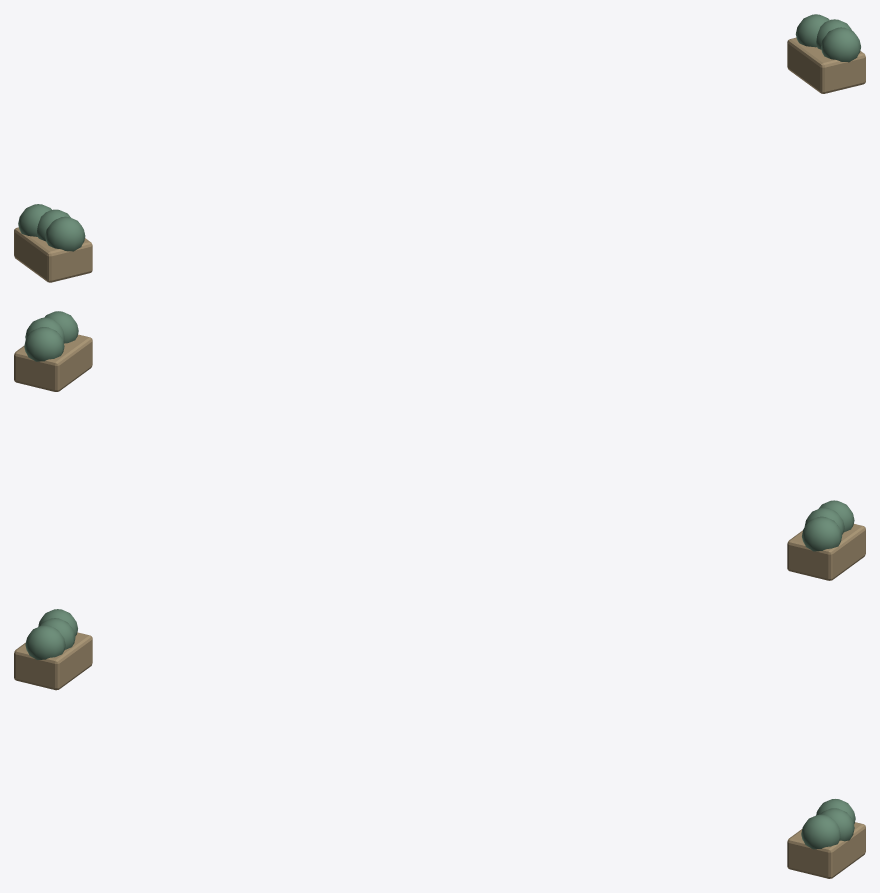
File: SM_Planters.fbx
3 views of the same model, one above another, from view 1: azimuth 30°, elevation 25°; view 2: azimuth 150°, elevation 25°; view 3: azimuth 330°, elevation 25° (orthographic).
Visible parts, largest first — view 1: SM_Planters; view 2: SM_Planters; view 3: SM_Planters.
Part boxes in pixels (box(x1,y1,x2,y2)): SM_Planters: box(14, 14, 865, 282); SM_Planters: box(14, 311, 865, 580); SM_Planters: box(14, 609, 865, 878).
Bounding box in the file's own units: 1445 × 120 × 91.
